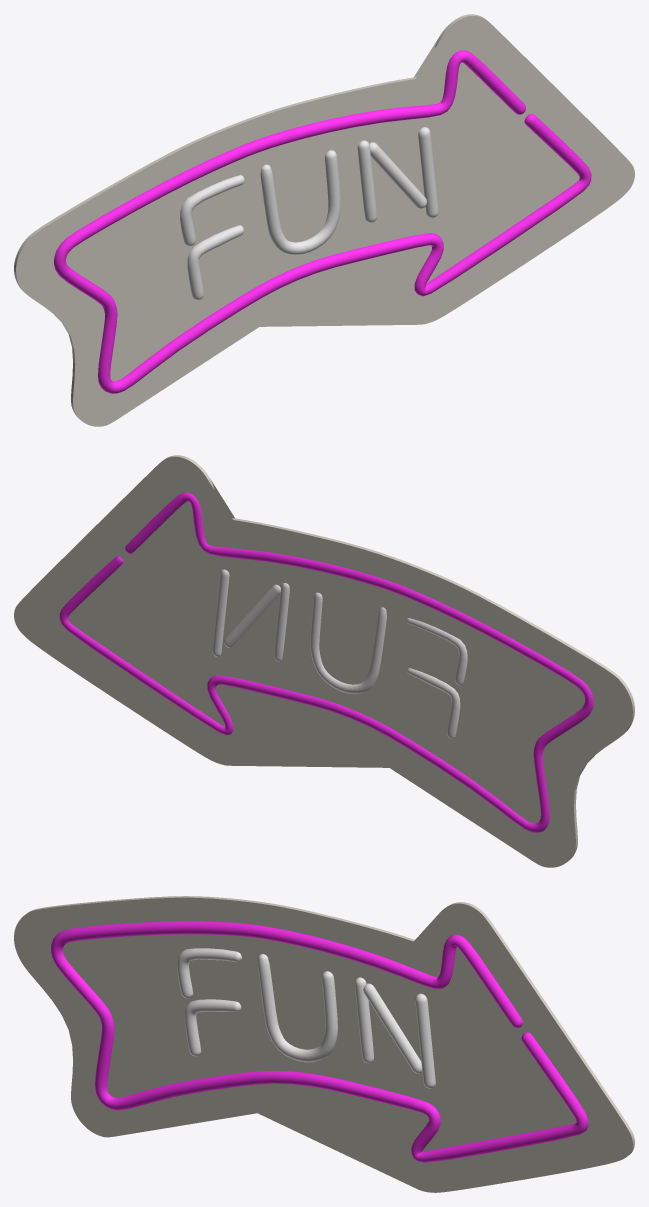
File: NeonFUN+.fbx
3 renders of one model, top to bottom at view 1: azimuth 30°, elevation 25°; view 2: azimuth 150°, elevation 25°; view 3: azimuth 330°, elevation 25°, orthographic.
Visible parts, largest first — view 1: SM_TransparentPlate, SM_Neon-FUN; view 2: SM_TransparentPlate, SM_Neon-FUN; view 3: SM_TransparentPlate, SM_Neon-FUN.
Part boxes in pixels (<box>): SM_TransparentPlate: <box>14,14,634,426</box>; SM_Neon-FUN: <box>54,50,591,393</box>; SM_TransparentPlate: <box>14,455,634,867</box>; SM_Neon-FUN: <box>59,492,593,832</box>; SM_TransparentPlate: <box>14,896,634,1192</box>; SM_Neon-FUN: <box>51,921,588,1162</box>.
Size of the model in its own units: 511 by 253 by 9.67.
